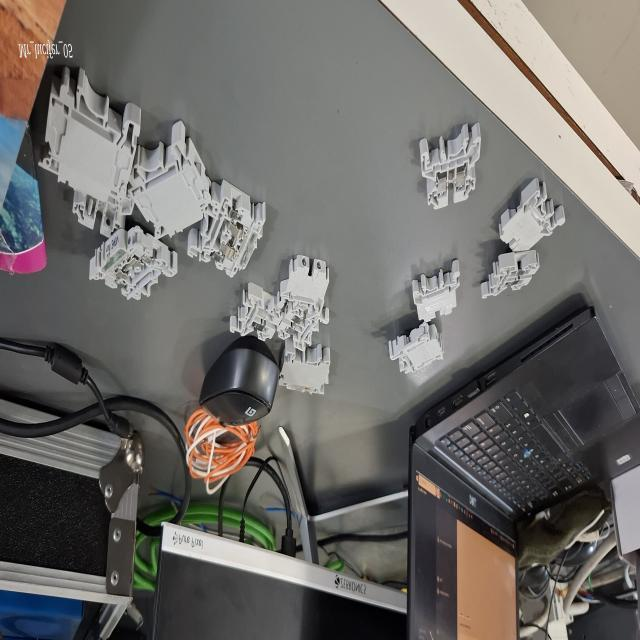Inverted: (492, 173, 574, 256), (407, 255, 462, 328), (275, 248, 336, 312), (386, 322, 446, 378)
Pass: (418, 104, 489, 216), (477, 246, 547, 322), (274, 304, 331, 352)
Reject: (225, 280, 286, 346)
